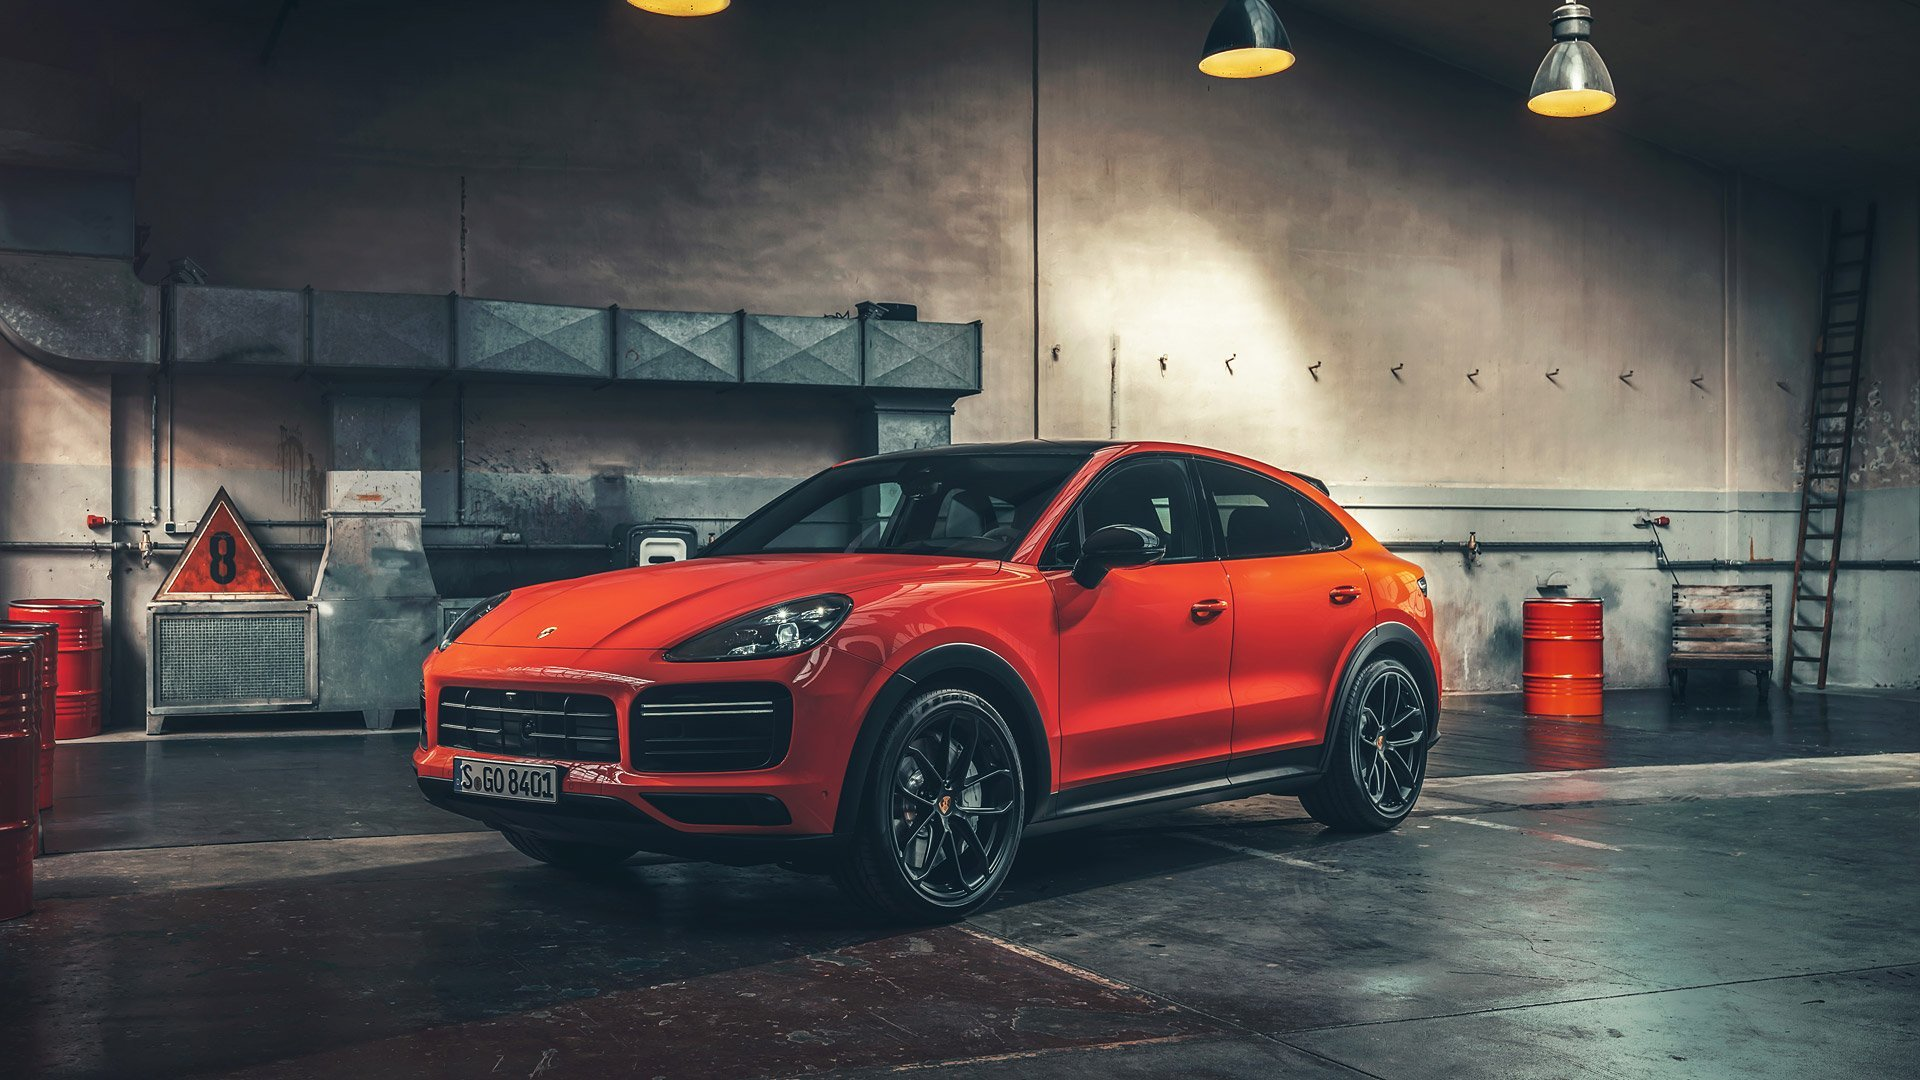car: (398, 425, 1447, 915)
